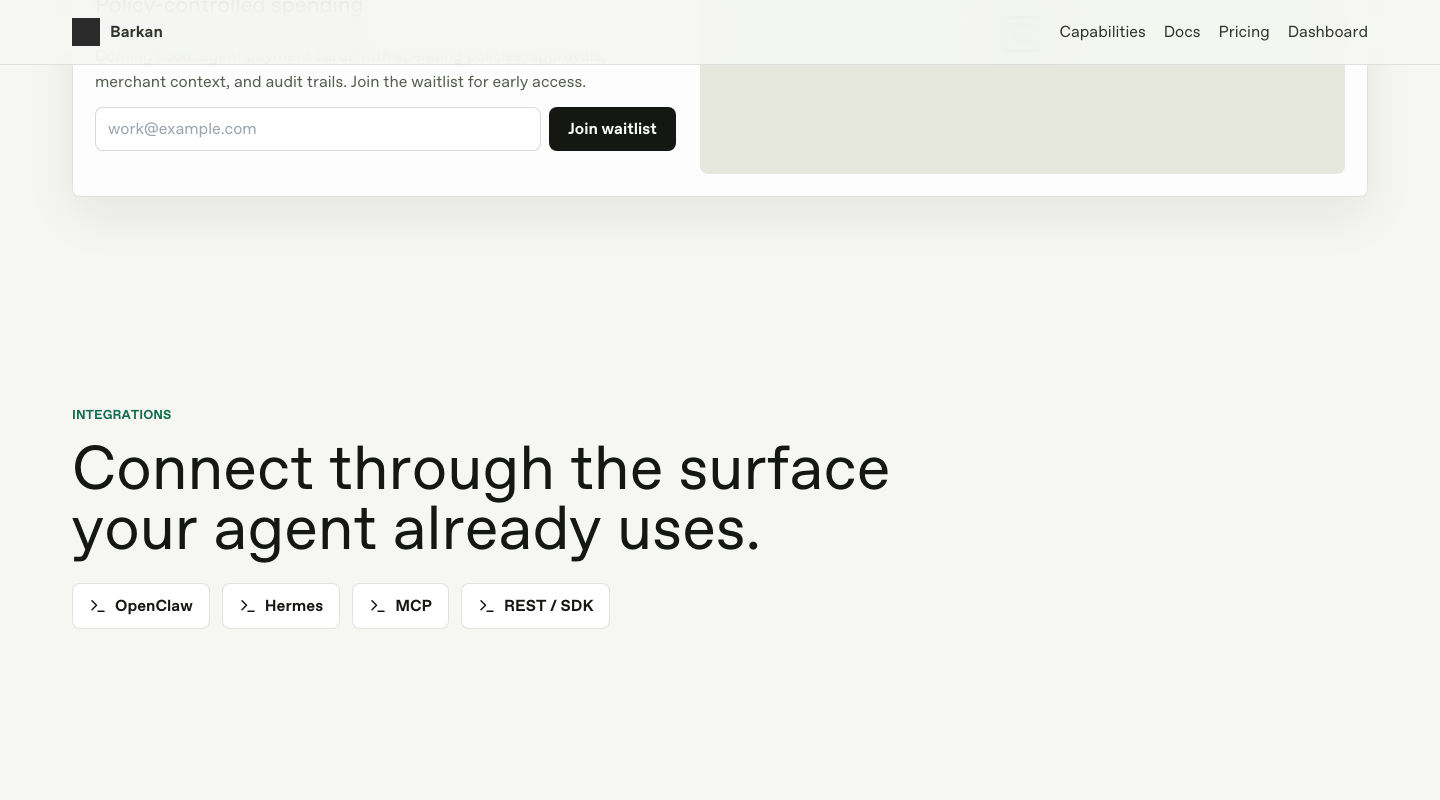
Public pages › submits the card waitlist
This screenshot has width=1440, height=800.
(page scrolled)
In the field with placeholder "work@example.com": (318, 128) [95,106,541,150], type "card@example.com"
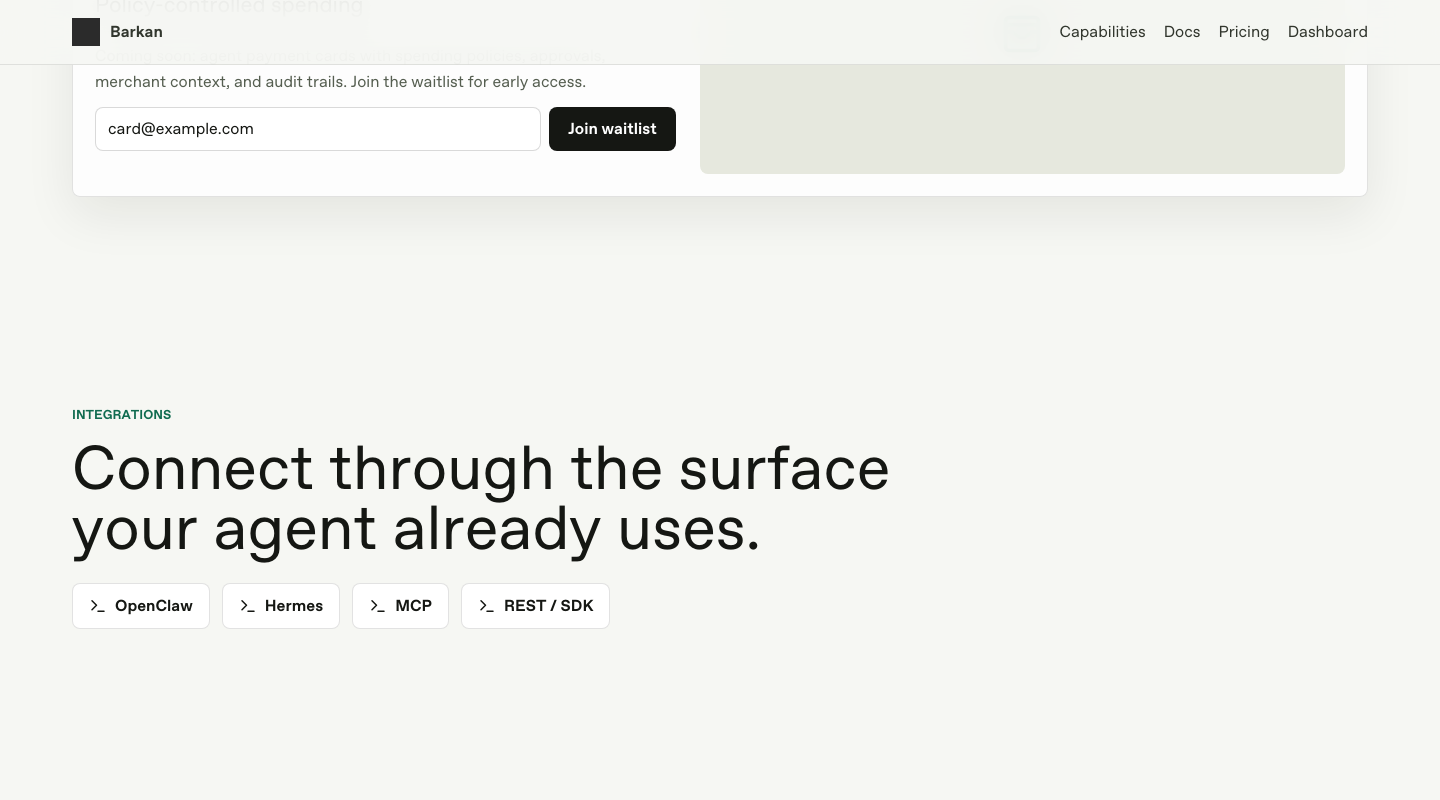
Click the button "Join waitlist": (612, 128) [549,106,676,150]
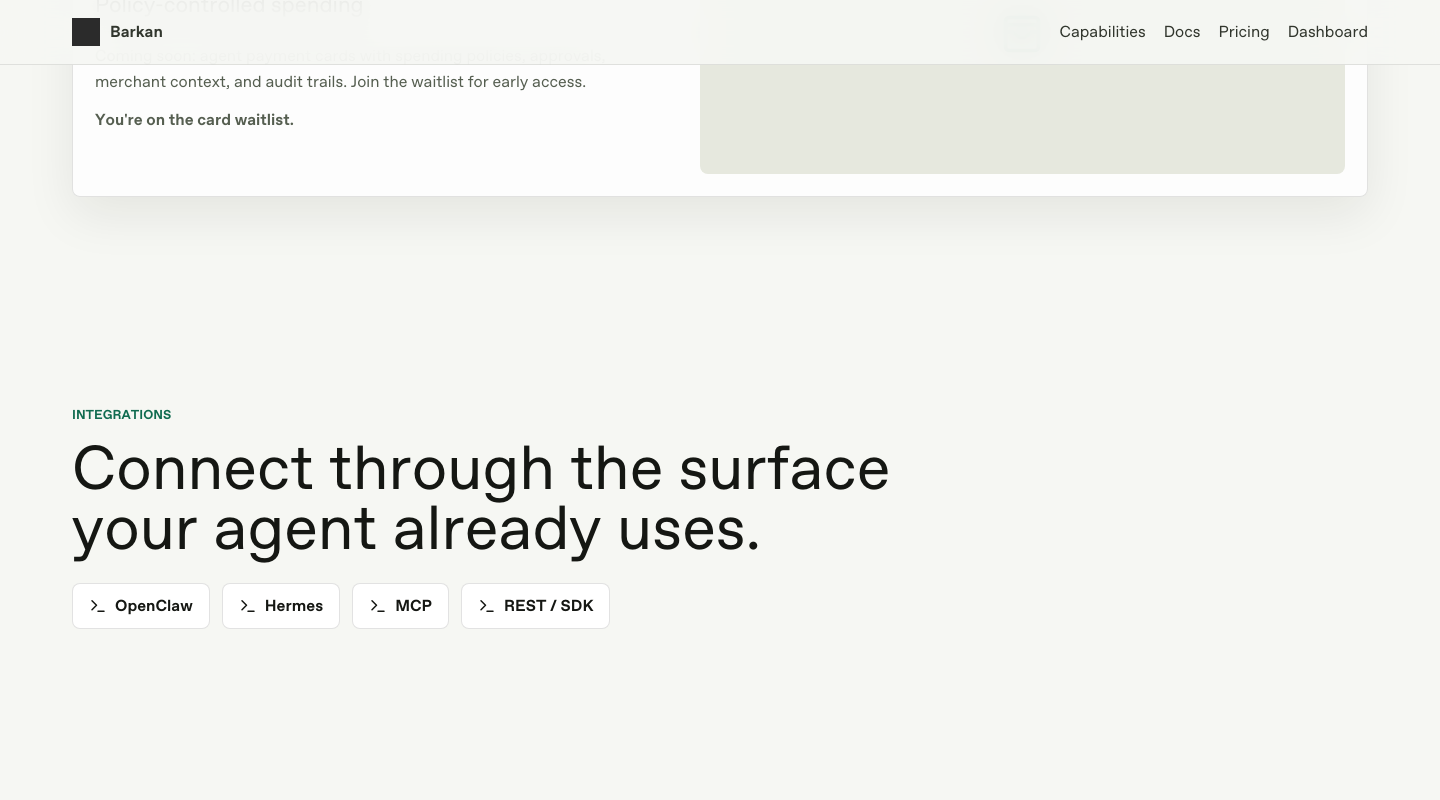
Result: the text "You're on the card waitlist." is shown at [95,106,294,132]
